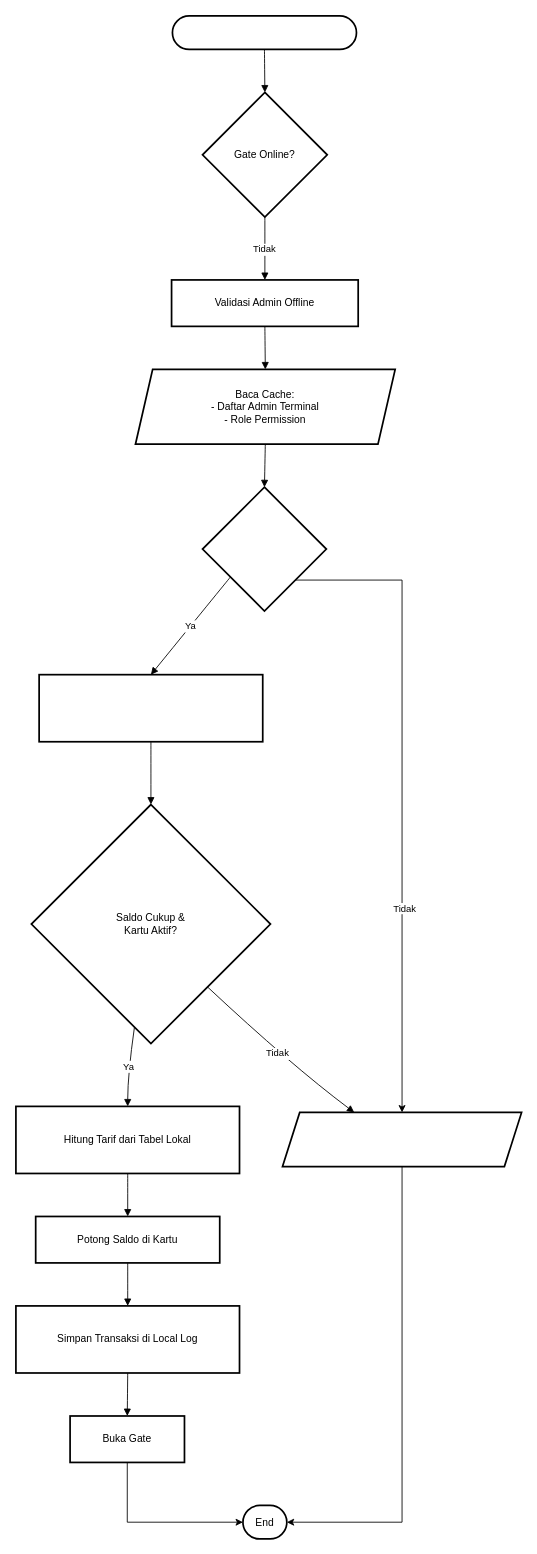
This 537x1554 diagram has some shape labels left out. The centre of each missing label's shape, as x and y in pixels:
"Admin Valid?" belongs at (264,548).
"Baca Data Kartu: Saldo, Status, Last Checkin" belongs at (150,707).
"Tolak Akses (Error: Admin Invalid)" belongs at (401,1139).
"User Tap Kartu di Gate" belongs at (264,32).
